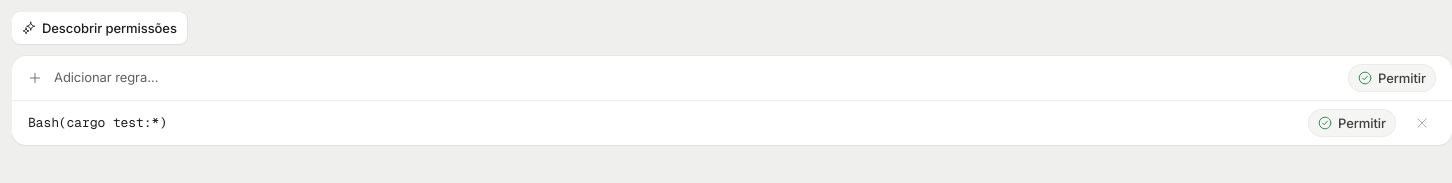
aba de permissões › regra inválida ou repetida não entra e diz o porquê
Type "qualquer coisa" into the field labelled "Adicionar regra…". click: (695, 78)
box: x1=54 y1=69 x2=1336 y2=87
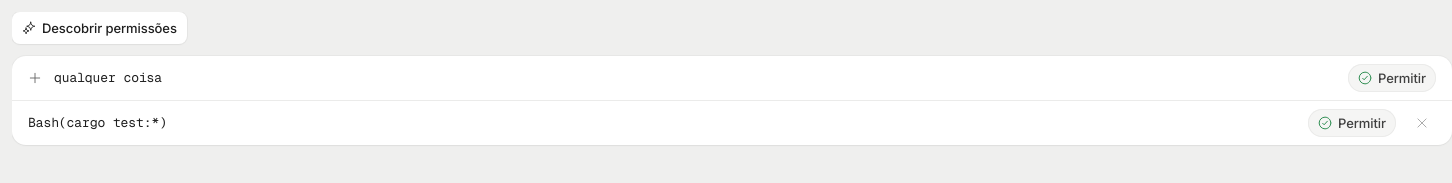
Submit the form from the field named "Adicionar regra…", box x1=54 y1=69 x2=1336 y2=87
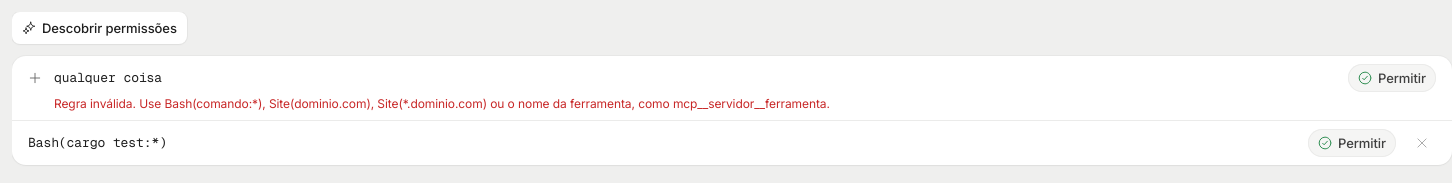
Now the message shows "Regra inválida", box x1=54 y1=96 x2=830 y2=111
Replace the text in the field named "Adicionar regra…" with "Bash(cargo test:*)". click: (695, 78)
box: x1=54 y1=69 x2=1336 y2=87
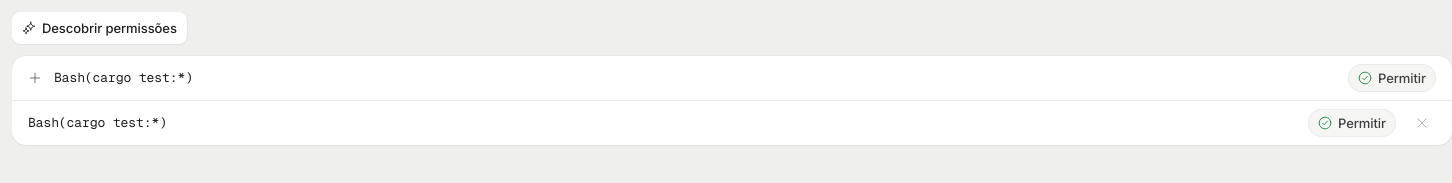
Now the message is gone
Submit the form from the field named "Adicionar regra…", box x1=54 y1=69 x2=1336 y2=87
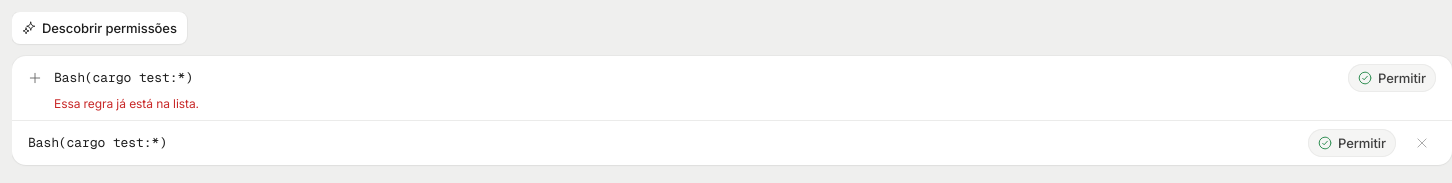
Now the message shows "já está na lista", box x1=54 y1=96 x2=199 y2=111
